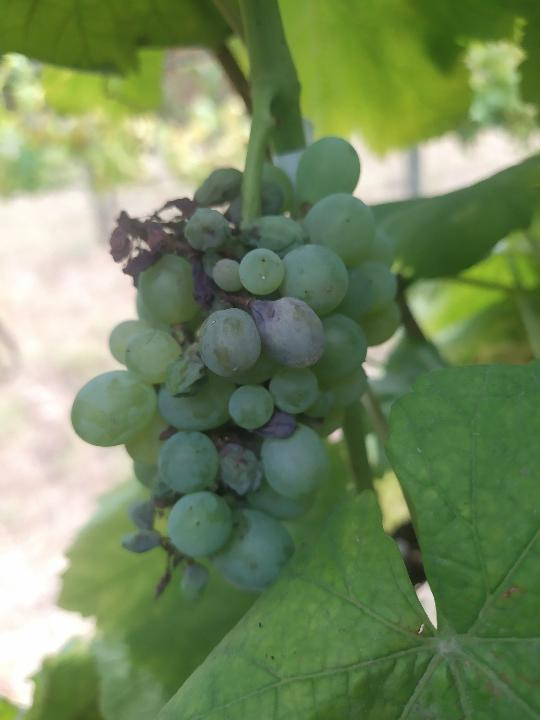grape: (66, 134, 404, 604)
